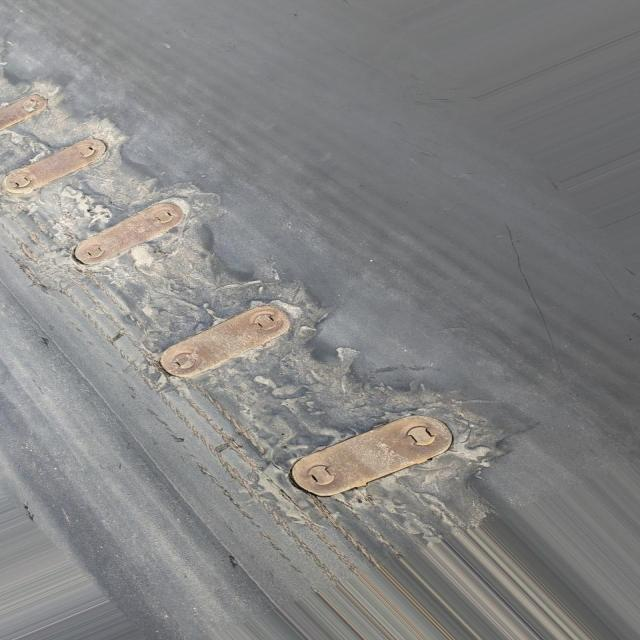patch work: (0, 67, 532, 576)
